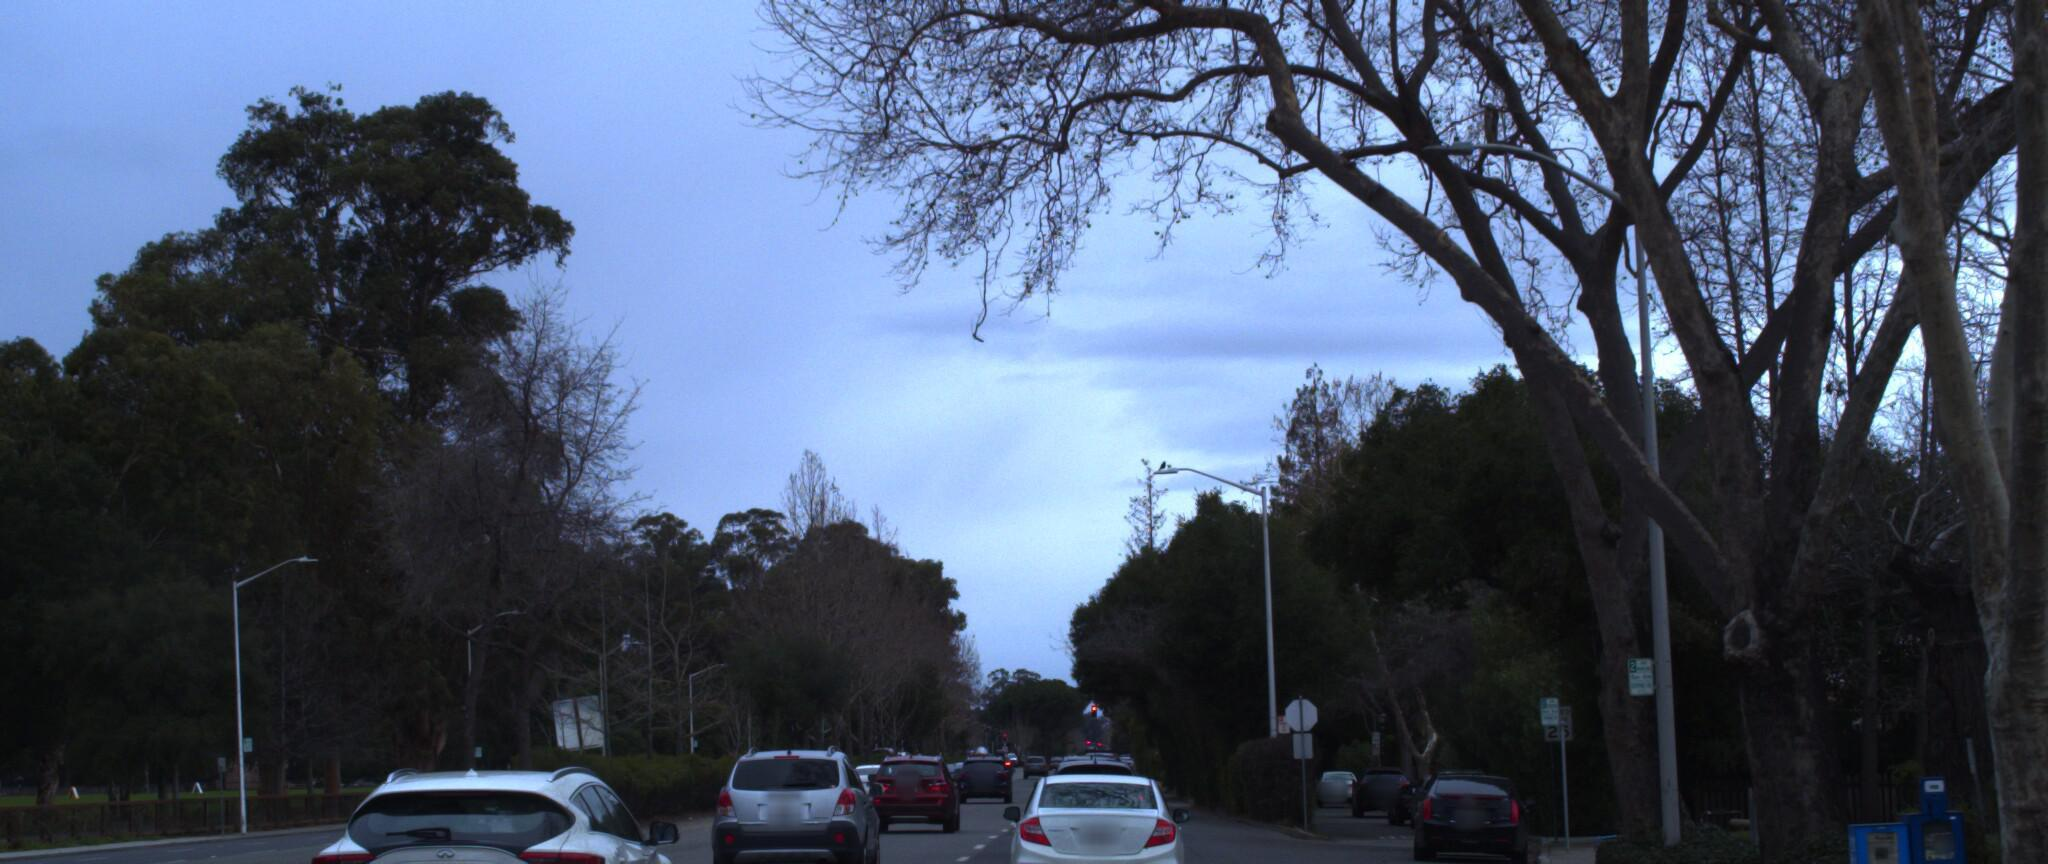car: (286, 758, 704, 864), (699, 735, 876, 864), (1002, 762, 1183, 864), (1405, 752, 1522, 854), (861, 728, 959, 816)
